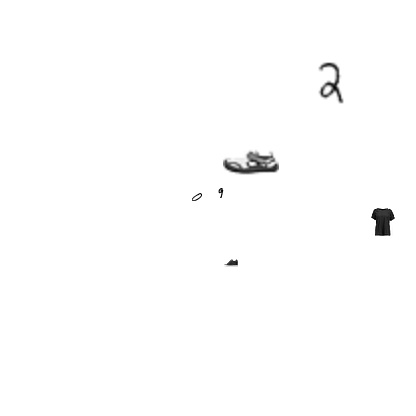0: (190, 190, 204, 204)
2: (303, 53, 359, 109)
9: (214, 185, 228, 199)
Sandal: (223, 134, 279, 190)
Sneaker: (224, 256, 238, 270)
T-shirt/top: (369, 208, 397, 236)
